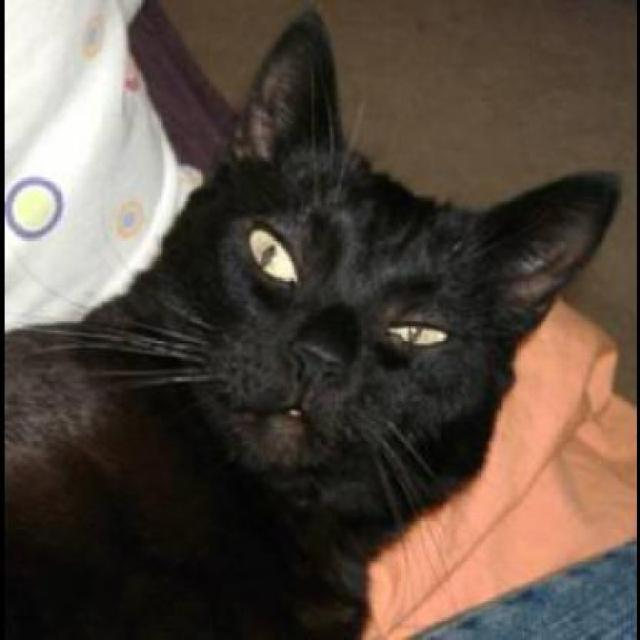unauthorized: (2, 3, 620, 639)
